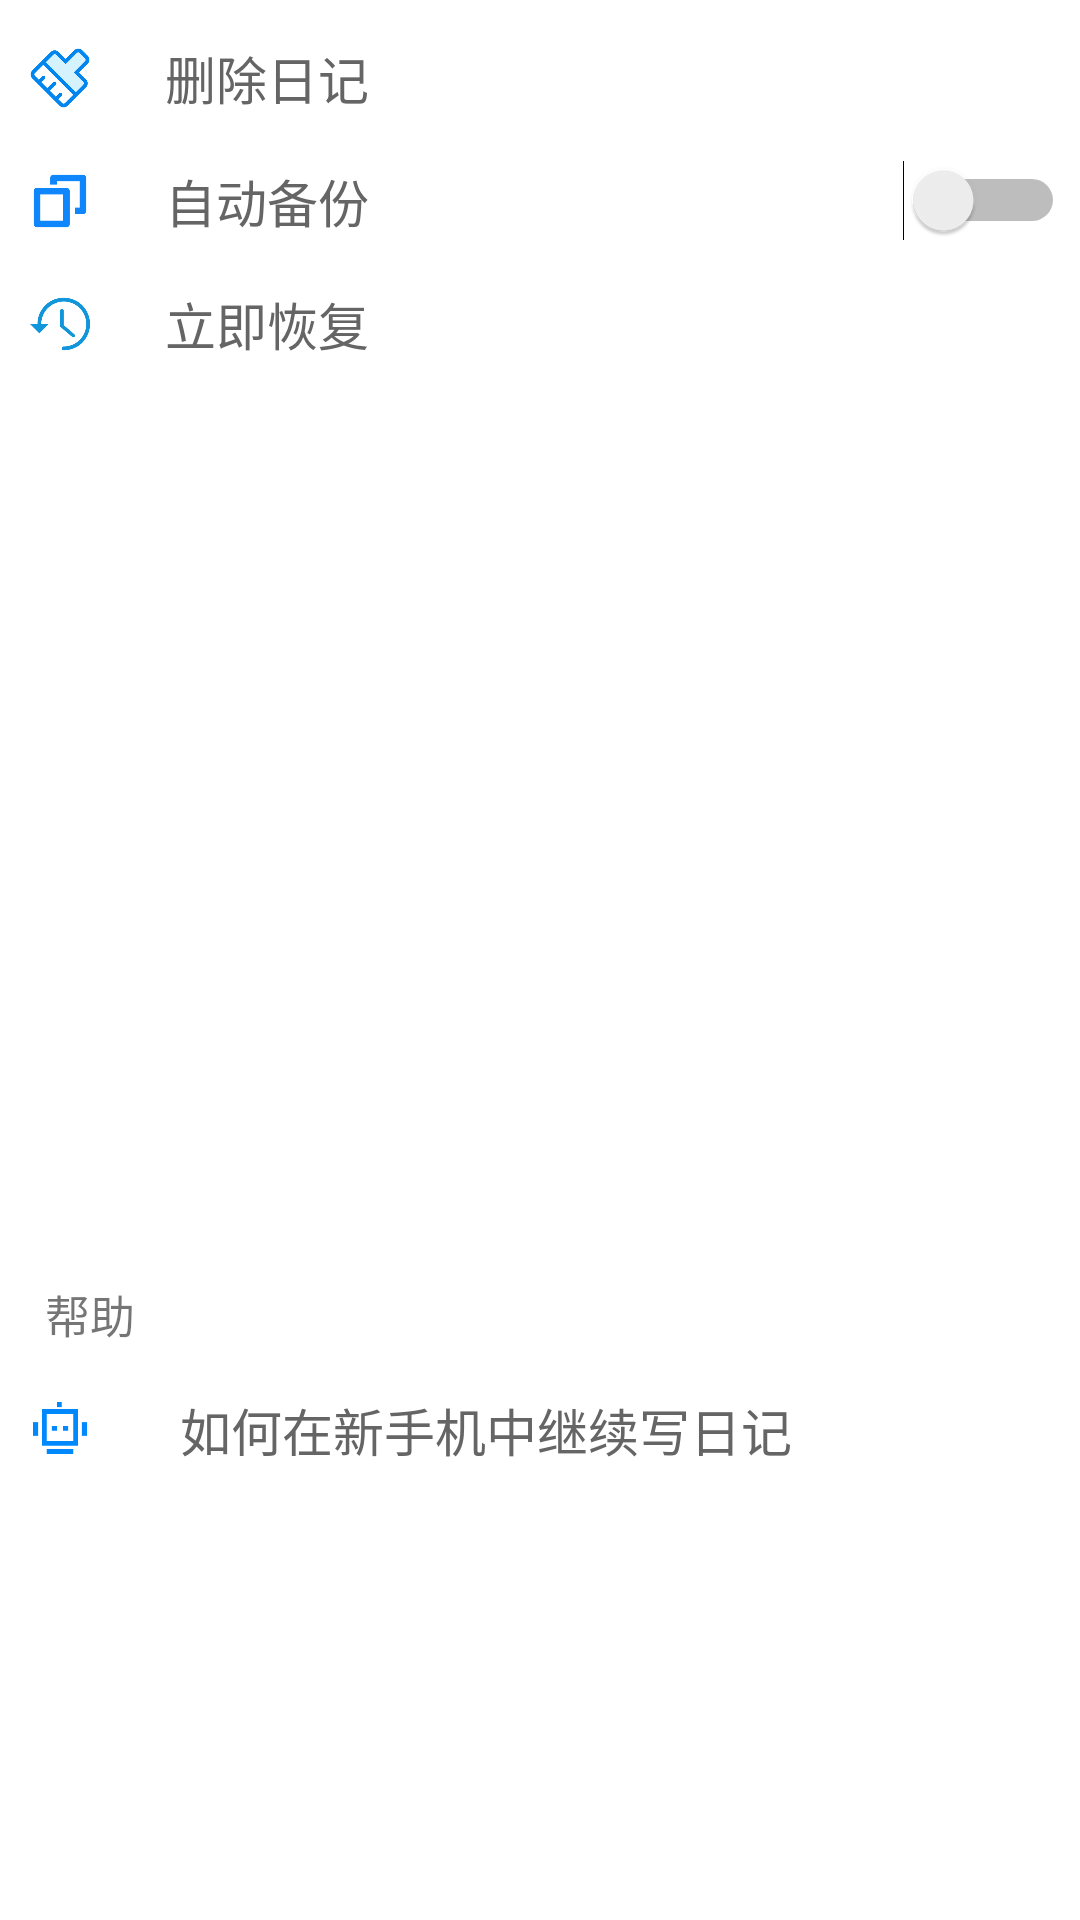

Locate icon controls on the screen. Image size 1080 x 1920, boxes as (x1, y1, x2, y2).
backup: (34, 175, 86, 227)
clear: (30, 48, 90, 108)
recover: (30, 298, 90, 350)
